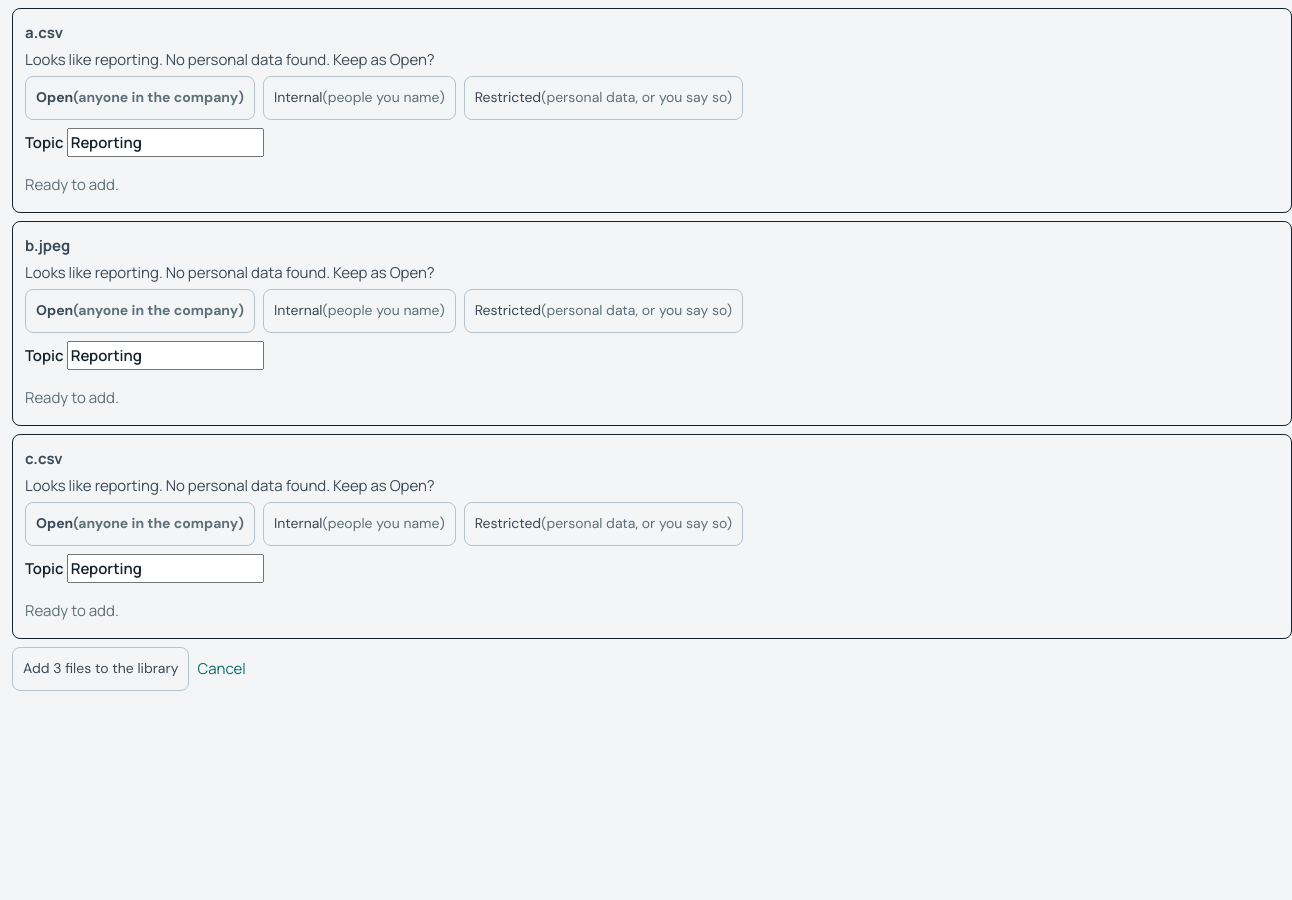
Test: three files in one go: each row has its own proposal and status, uploads run in order, a duplicate is named
Click the button "Add 3 files to the library": (101, 669) left=12, top=647, right=190, bottom=691
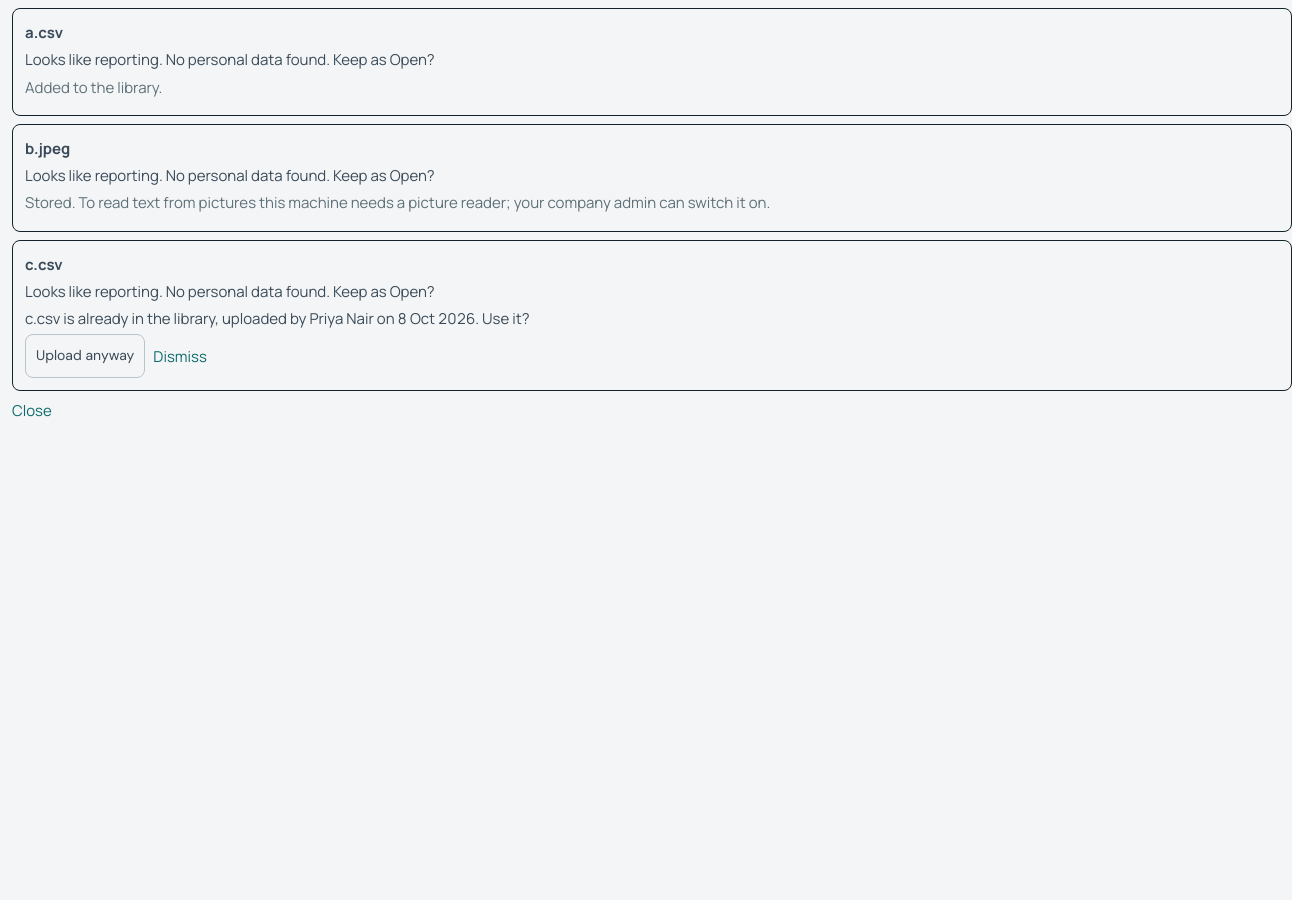
Now the text "c.csv is already in the library, uploaded by Priya Nair" is shown, box left=25, top=308, right=530, bottom=329
Now the text "Stored. To read text from pictures" is shown, box left=25, top=192, right=770, bottom=213
Now the text "Added to the library." is shown once, box left=25, top=76, right=162, bottom=98
